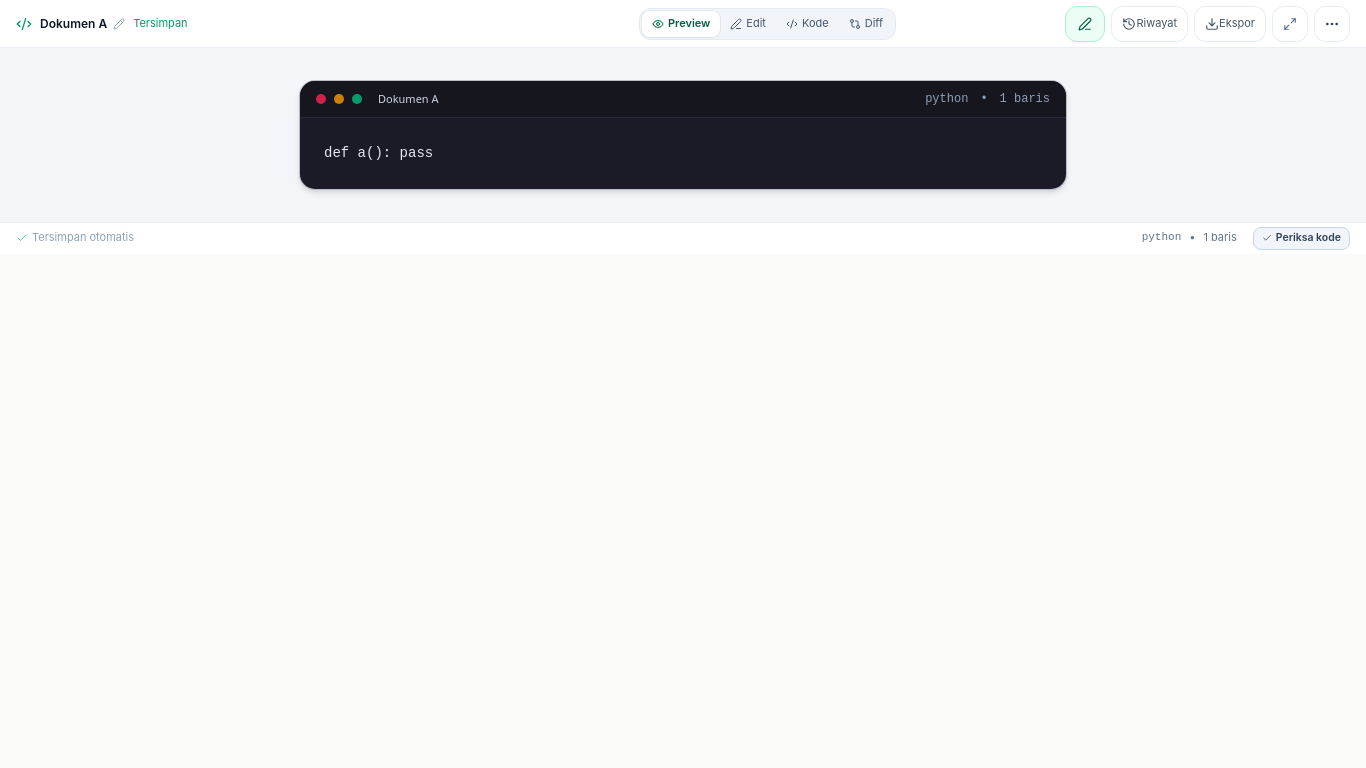
Test: Workspace Canvas 2.0 UX & Behavior › resets validation result and isolates state when switching artifacts
Click check on A
Click the button with aria-label "Periksa kode secara statis": click(1301, 238) [1253,227,1350,250]
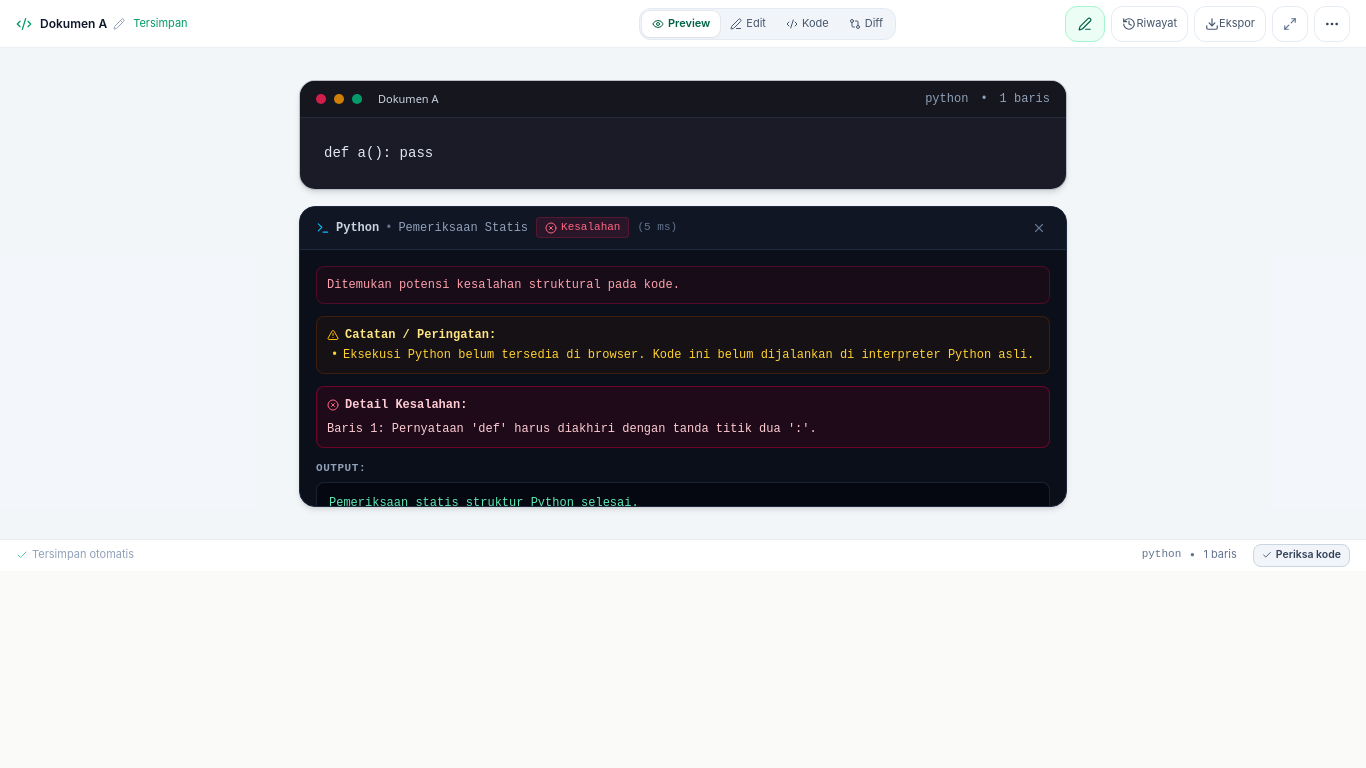
Result: the element named "Panel Hasil Pemeriksaan Kode" is shown at [299,206,1067,507]
